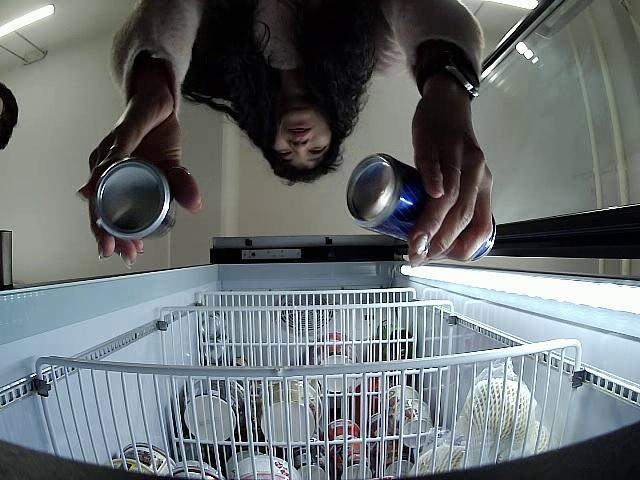16_hot6: (348, 154, 497, 262), (94, 162, 178, 244)
